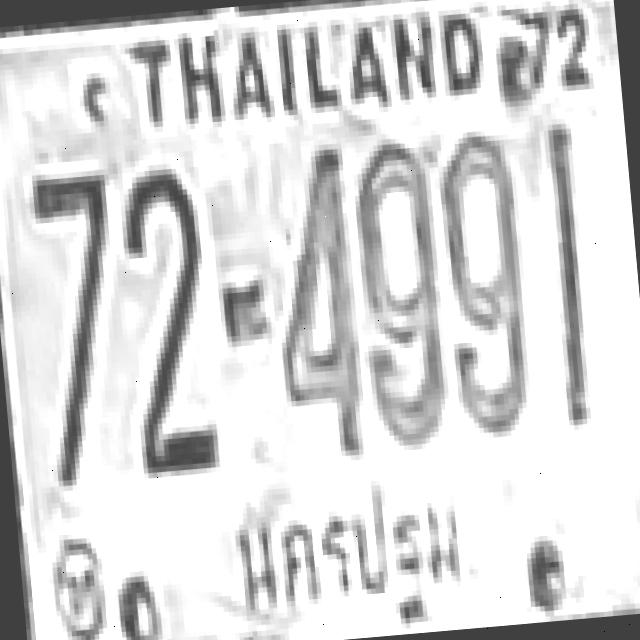1: (543, 122, 590, 356), (543, 123, 589, 344)
2: (121, 239, 218, 471)
4: (260, 138, 362, 455)
7: (27, 170, 119, 352)
9: (431, 138, 533, 434), (347, 156, 448, 448), (436, 187, 533, 435)
NakhonPathom: (219, 464, 483, 640)
